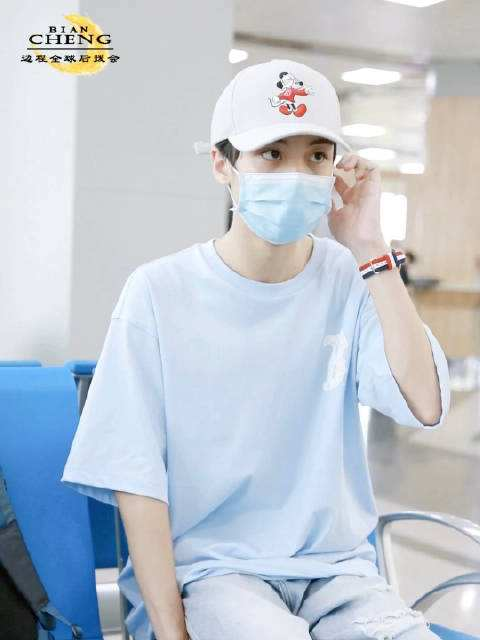face: (227, 141, 339, 247)
mask: (227, 172, 339, 248)
